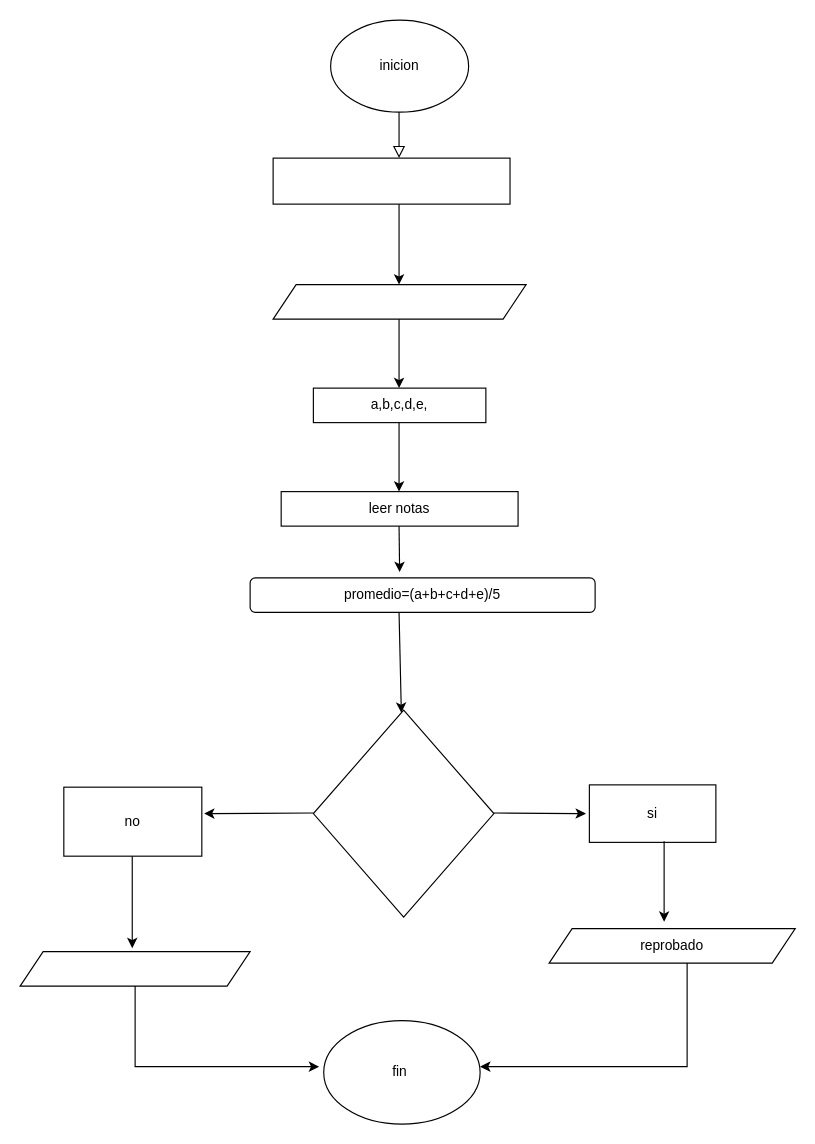
This 815x1144 diagram has some shape labels left out. Each missing label, with the centre of its shape:
"ingresa tus notas": [399,301]
aprobado: [134,968]
declarar-a,b,c,d,e,promedio: [391,180]
si promedio es <=7: [403,813]
